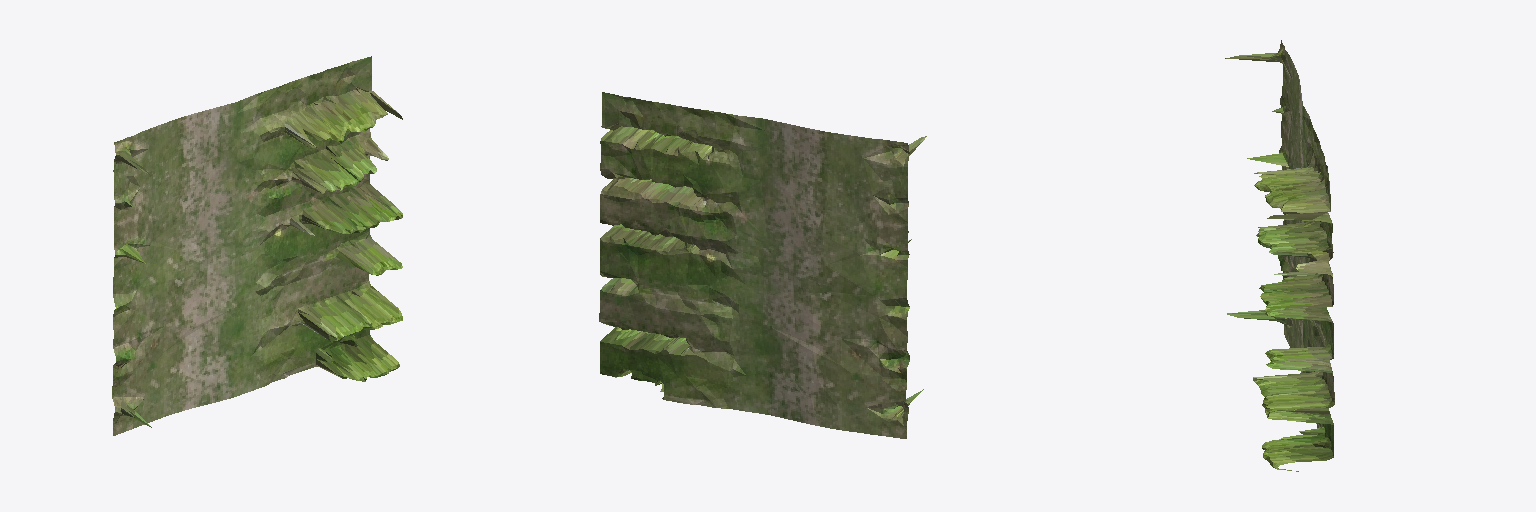
3 renders of one model, left to right at view 1: azimuth 30°, elevation 25°; view 2: azimuth 150°, elevation 25°; view 3: azimuth 270°, elevation 25°, orthographic.
Parts seen in each view (by area): view 1: grp1; view 2: grp1; view 3: grp1.
Part boxes in pixels (x1,y1,x2,y2): grp1: (112,56,402,435); grp1: (599,92,926,438); grp1: (1225,40,1334,471).
Bounding box in the file's own units: 10 × 10 × 3.41.
1 materials, 1 textured.